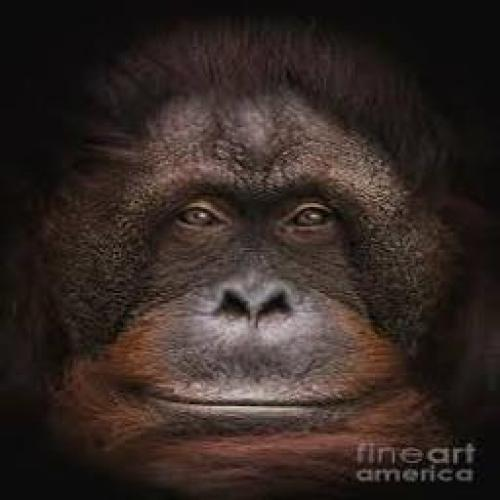orangutan-endangered: (10, 0, 476, 500)
